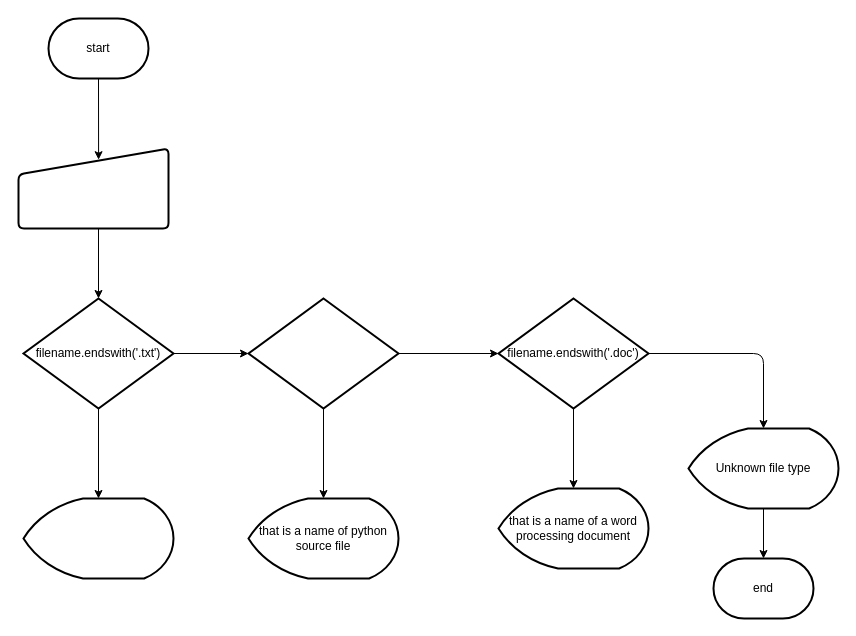
This 856x636 diagram has some shape labels left out. The shapes that lost their labels are listed below. From the top down, each one's centre as x and y in pixels, then its label:
(93,188): enter the filename filename
(323,353): filename.endswith('.py')
(98,538): that is a name of text file
